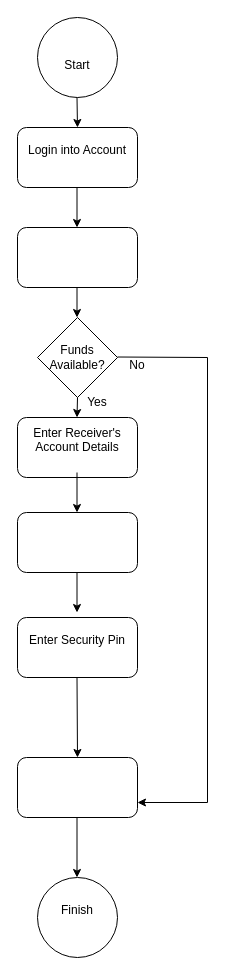
Image size: 233x975. Some labels were removed from this diagram. The centre of each missing label's shape, as x and y in pixels:
"Check Available Funds" belongs at point (77, 257).
"Initiate Transaction" belongs at point (77, 542).
"Logout" belongs at point (77, 787).
